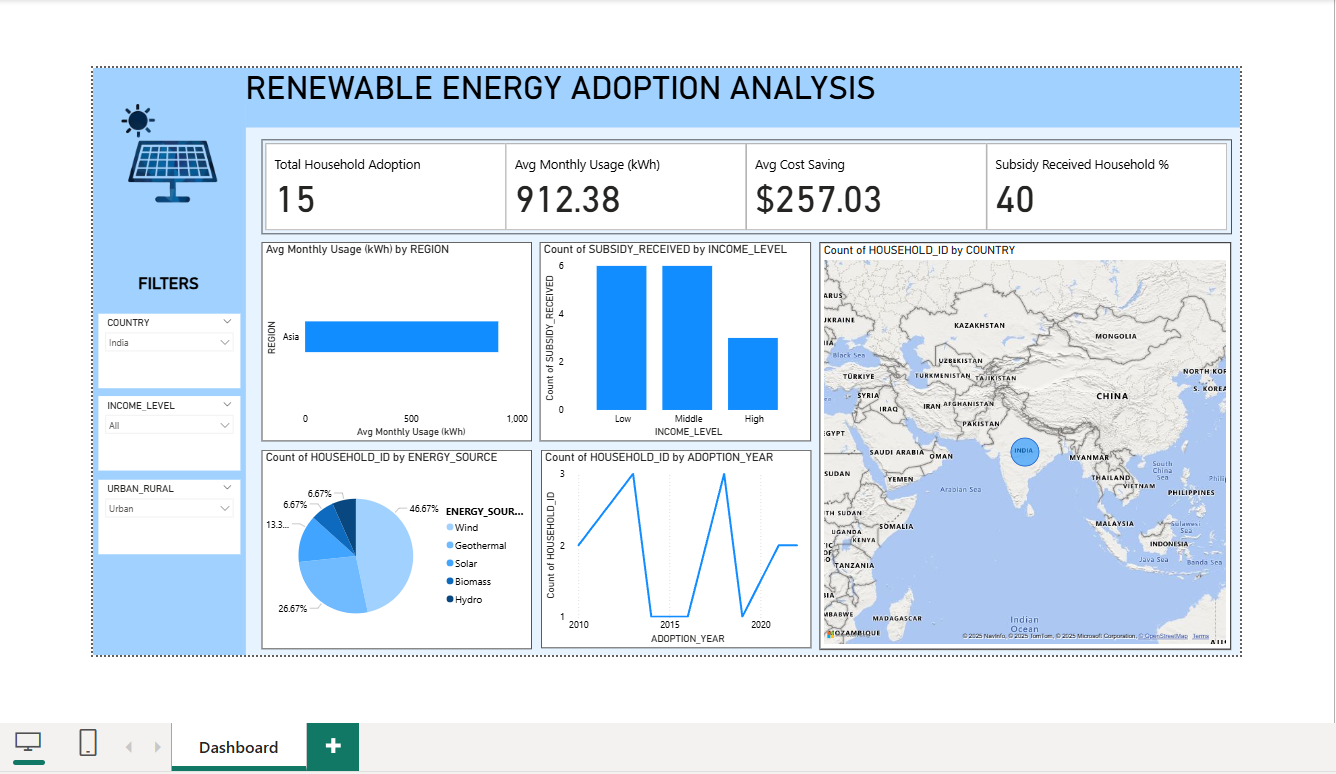

Layout of this report page (visuals, bound fields, positions):
{"tool":"powerbi","page":{"name":"Dashboard","canvas":[1699,870],"ordinal":0},"visuals":[{"type":"shape","box":[0,0,226.5,950.8],"z":0},{"type":"shape","box":[226.7,0,1573.3,88.3],"z":1000},{"type":"cardVisual","fields":{"Data":["POWERBI_DATASET.Total Household Adoption","POWERBI_DATASET.Avg Monthly Usage (kWh)","POWERBI_DATASET.Avg Cost Saving","POWERBI_DATASET.Subsity Received Household %"]},"box":[250,106.7,1436.7,140],"z":2000},{"type":"clusteredBarChart","fields":{"Category":["POWERBI_DATASET.REGION"],"Y":["POWERBI_DATASET.Avg Monthly Usage (kWh)"]},"box":[250,258.3,400,295],"z":3000},{"type":"pieChart","fields":{"Category":["POWERBI_DATASET.ENERGY_SOURCE"],"Y":["CountNonNull(POWERBI_DATASET.HOUSEHOLD_ID)"]},"box":[250,565,400,295],"z":4000},{"type":"clusteredColumnChart","fields":{"Category":["POWERBI_DATASET.INCOME_LEVEL"],"Y":["CountNonNull(POWERBI_DATASET.SUBSIDY_RECEIVED)"]},"box":[661.7,258.3,401.7,295],"z":5000},{"type":"lineChart","fields":{"Category":["POWERBI_DATASET.ADOPTION_YEAR"],"Y":["CountNonNull(POWERBI_DATASET.HOUSEHOLD_ID)"]},"box":[663.3,566.7,400,293.3],"z":6000},{"type":"map","fields":{"Category":["POWERBI_DATASET.COUNTRY"],"Size":["CountNonNull(POWERBI_DATASET.HOUSEHOLD_ID)"]},"box":[1076.7,258.3,610,603.3],"z":7000},{"type":"slicer","fields":{"Values":["POWERBI_DATASET.COUNTRY"]},"box":[8.3,363.5,210,110],"z":8000},{"type":"slicer","fields":{"Values":["POWERBI_DATASET.INCOME_LEVEL"]},"box":[8.3,486.8,210,110],"z":9000},{"type":"slicer","fields":{"Values":["POWERBI_DATASET.URBAN_RURAL"]},"box":[8.3,610.1,210,110],"z":10000},{"type":"image","box":[8.3,21.7,210,205],"z":11000},{"type":"textbox","box":[62,300,110,46],"z":12000}]}

Visuals, with their boxes on the page's 1699x870 design canvas (x1, y1, x2, y2). These are canvas units, not pixel positions in the 1336x774 screenshot, which may show the page scaled, cropped or inside an application window:
shape: detection(0, 0, 226, 951)
shape: detection(227, 0, 1800, 88)
cardVisual - POWERBI_DATASET.Total Household Adoption x POWERBI_DATASET.Avg Monthly Usage (kWh): detection(250, 107, 1687, 247)
clusteredBarChart - POWERBI_DATASET.REGION x POWERBI_DATASET.Avg Monthly Usage (kWh): detection(250, 258, 650, 553)
pieChart - POWERBI_DATASET.ENERGY_SOURCE x CountNonNull(POWERBI_DATASET.HOUSEHOLD_ID): detection(250, 565, 650, 860)
clusteredColumnChart - POWERBI_DATASET.INCOME_LEVEL x CountNonNull(POWERBI_DATASET.SUBSIDY_RECEIVED): detection(662, 258, 1063, 553)
lineChart - POWERBI_DATASET.ADOPTION_YEAR x CountNonNull(POWERBI_DATASET.HOUSEHOLD_ID): detection(663, 567, 1063, 860)
map - POWERBI_DATASET.COUNTRY x CountNonNull(POWERBI_DATASET.HOUSEHOLD_ID): detection(1077, 258, 1687, 862)
slicer - POWERBI_DATASET.COUNTRY: detection(8, 364, 218, 474)
slicer - POWERBI_DATASET.INCOME_LEVEL: detection(8, 487, 218, 597)
slicer - POWERBI_DATASET.URBAN_RURAL: detection(8, 610, 218, 720)
image: detection(8, 22, 218, 227)
textbox: detection(62, 300, 172, 346)
